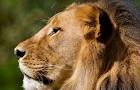lion: (15, 3, 140, 88)
